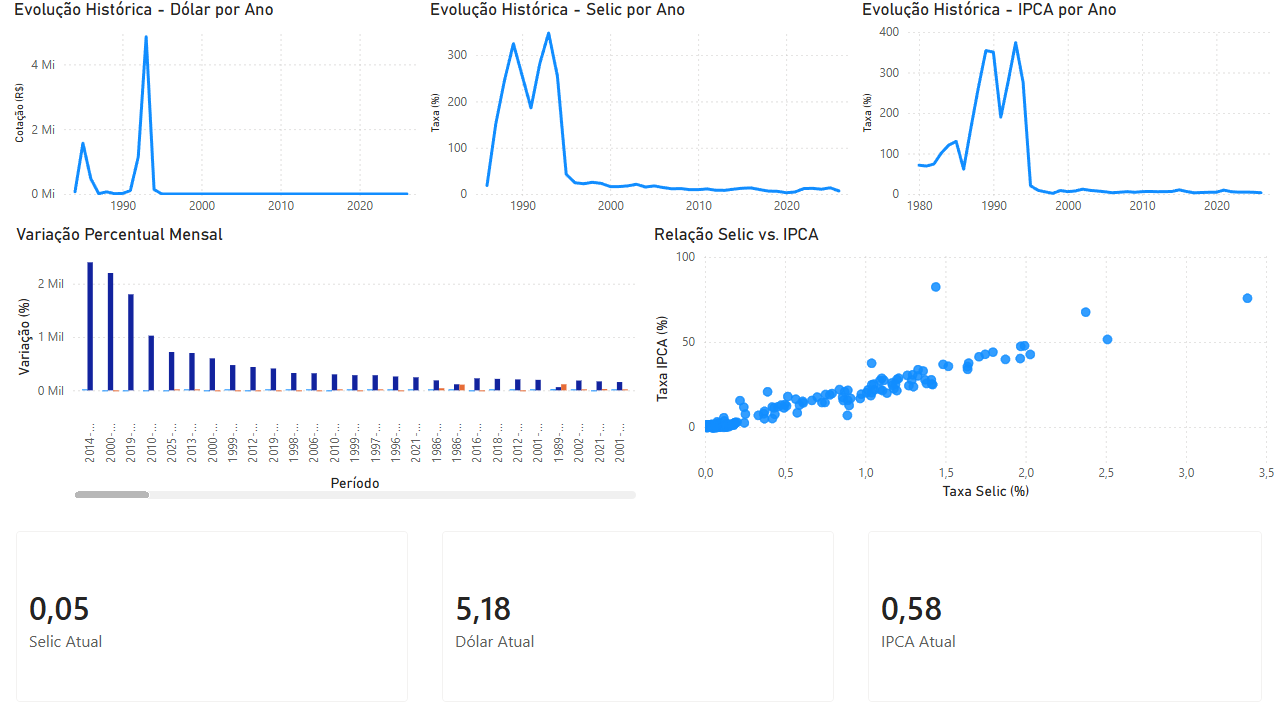

Layout of this report page (visuals, bound fields, positions):
{"tool":"powerbi","page":{"name":"Página 1","canvas":[1280,720],"ordinal":0},"visuals":[{"type":"lineChart","fields":{"Category":["staging fct_indicadores_diarios.data.Variation.Hierarquia de datas.Ano","staging fct_indicadores_diarios.data.Variation.Hierarquia de datas.Trimestre","staging fct_indicadores_diarios.data.Variation.Hierarquia de datas.Mês","staging fct_indicadores_diarios.data.Variation.Hierarquia de datas.Dia"],"Y":["Sum(staging fct_indicadores_diarios.valor)"]},"box":[10,0,416,225],"z":0},{"type":"lineChart","fields":{"Category":["staging fct_indicadores_diarios.data.Variation.Hierarquia de datas.Ano","staging fct_indicadores_diarios.data.Variation.Hierarquia de datas.Trimestre","staging fct_indicadores_diarios.data.Variation.Hierarquia de datas.Mês","staging fct_indicadores_diarios.data.Variation.Hierarquia de datas.Dia"],"Y":["Sum(staging fct_indicadores_diarios.valor)"]},"box":[426,0,432,225],"z":1000},{"type":"lineChart","fields":{"Category":["staging fct_indicadores_diarios.data.Variation.Hierarquia de datas.Ano","staging fct_indicadores_diarios.data.Variation.Hierarquia de datas.Trimestre","staging fct_indicadores_diarios.data.Variation.Hierarquia de datas.Mês","staging fct_indicadores_diarios.data.Variation.Hierarquia de datas.Dia"],"Y":["Sum(staging fct_indicadores_diarios.valor)"]},"box":[858,0,422,225],"z":2000},{"type":"clusteredColumnChart","title":"Variação Percentual Mensal","fields":{"Category":["staging mart_indicadores_mensal.ano_mes"],"Y":["Sum(staging mart_indicadores_mensal.variacao_pct_mensal)"],"Series":["staging mart_indicadores_mensal.indicador"]},"box":[12,225,630,280],"z":3000},{"type":"scatterChart","title":"Relação Selic vs. IPCA","fields":{"X":["Sum(mart_dispersao.Selic)"],"Y":["Sum(mart_dispersao.IPCA)"],"Category":["mart_dispersao.ano_mes"]},"box":[650,225,630,280],"z":3001},{"type":"cardVisual","fields":{"Data":["staging fct_indicadores_diarios.Selic Atual"]},"box":[0,515,426,205],"z":3002},{"type":"cardVisual","fields":{"Data":["staging fct_indicadores_diarios.Dólar Atual"]},"box":[426,515,426,205],"z":3004},{"type":"cardVisual","fields":{"Data":["staging fct_indicadores_diarios.IPCA Atual"]},"box":[852,515,428,205],"z":3005}]}

Visuals, with their boxes in screenshot pixels (x1, y1, x2, y2), scaled from the page's 1280x720 canvas onto the 1278x718 screenshot:
lineChart - staging fct_indicadores_diarios.data.Variation.Hierarquia de datas.Ano x staging fct_indicadores_diarios.data.Variation.Hierarquia de datas.Trimestre: bbox(10, 0, 425, 224)
lineChart - staging fct_indicadores_diarios.data.Variation.Hierarquia de datas.Ano x staging fct_indicadores_diarios.data.Variation.Hierarquia de datas.Trimestre: bbox(425, 0, 857, 224)
lineChart - staging fct_indicadores_diarios.data.Variation.Hierarquia de datas.Ano x staging fct_indicadores_diarios.data.Variation.Hierarquia de datas.Trimestre: bbox(857, 0, 1277, 224)
"Variação Percentual Mensal" clusteredColumnChart: bbox(12, 224, 641, 504)
"Relação Selic vs. IPCA" scatterChart: bbox(649, 224, 1277, 504)
cardVisual - staging fct_indicadores_diarios.Selic Atual: bbox(0, 514, 425, 717)
cardVisual - staging fct_indicadores_diarios.Dólar Atual: bbox(425, 514, 851, 717)
cardVisual - staging fct_indicadores_diarios.IPCA Atual: bbox(851, 514, 1277, 717)
